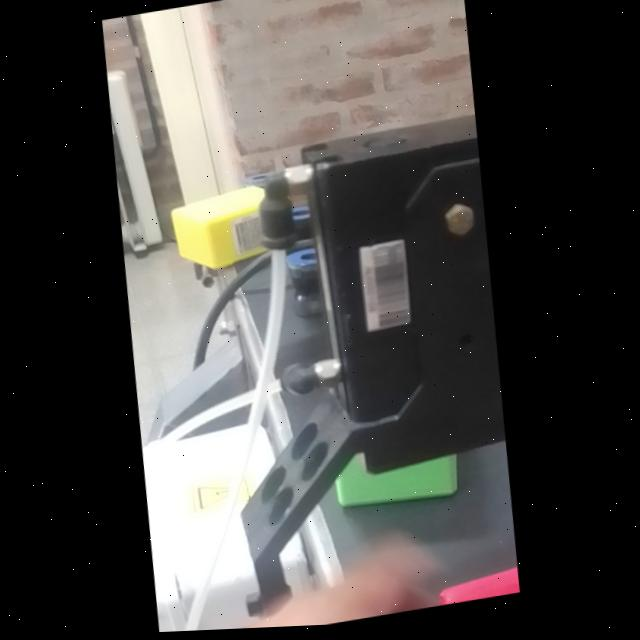redBox: (398, 530, 525, 615)
